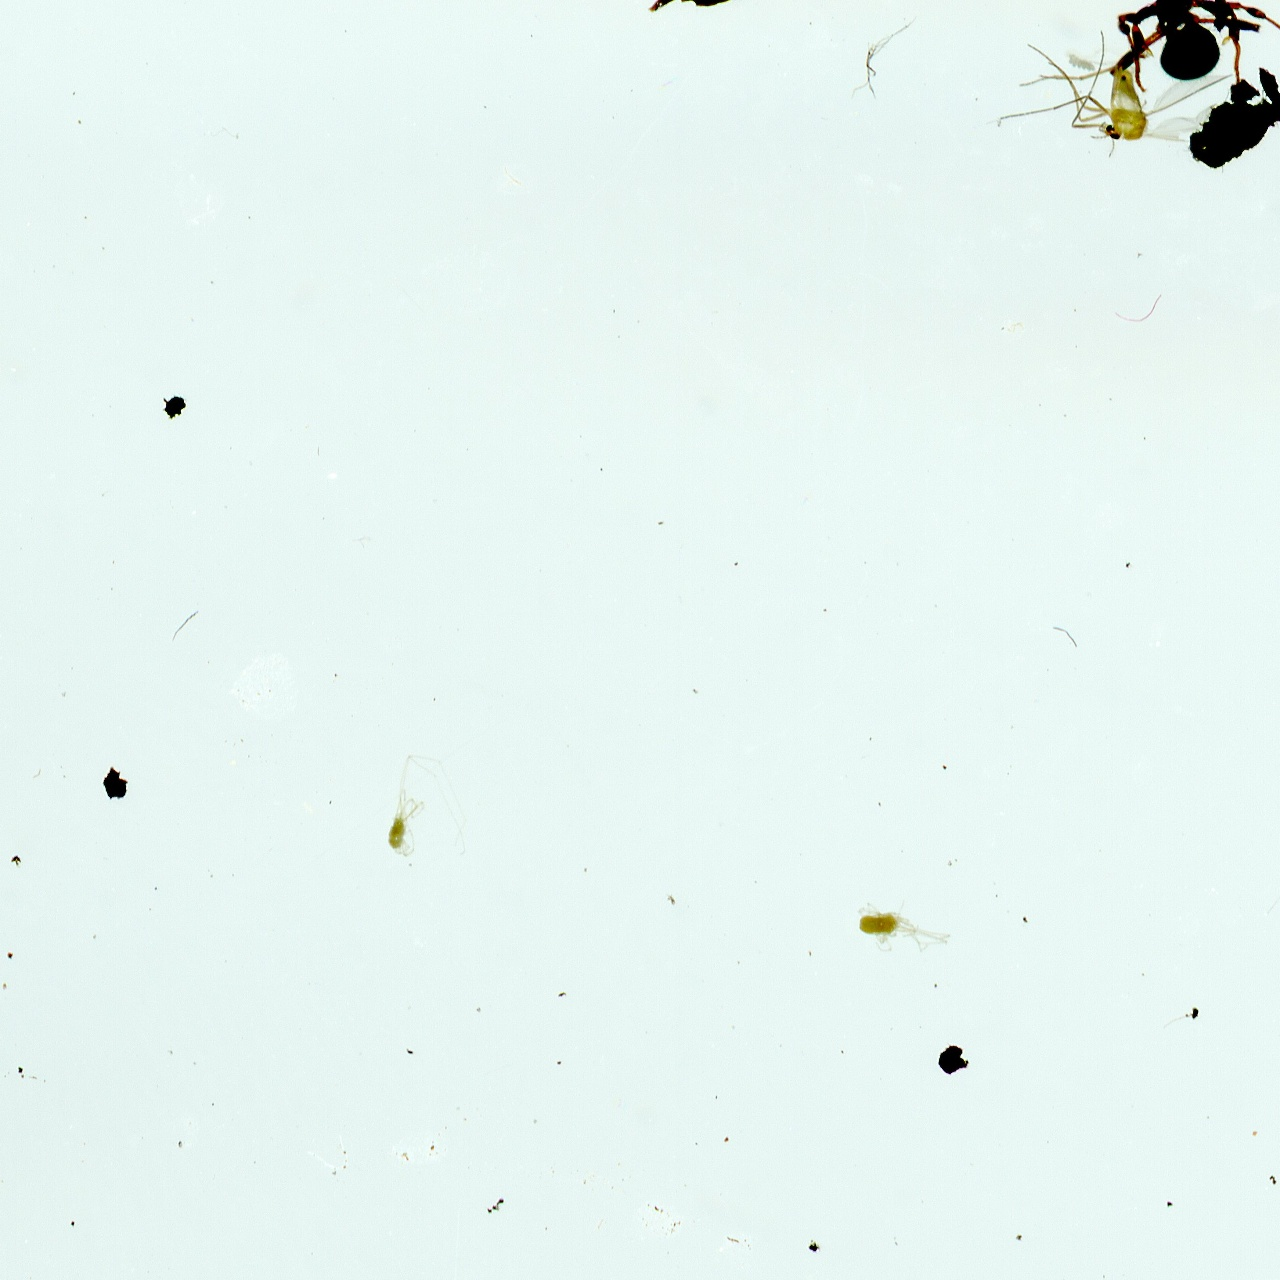arthropod: (986, 27, 1241, 161), (1108, 0, 1280, 97), (386, 753, 472, 871), (855, 896, 958, 954)
